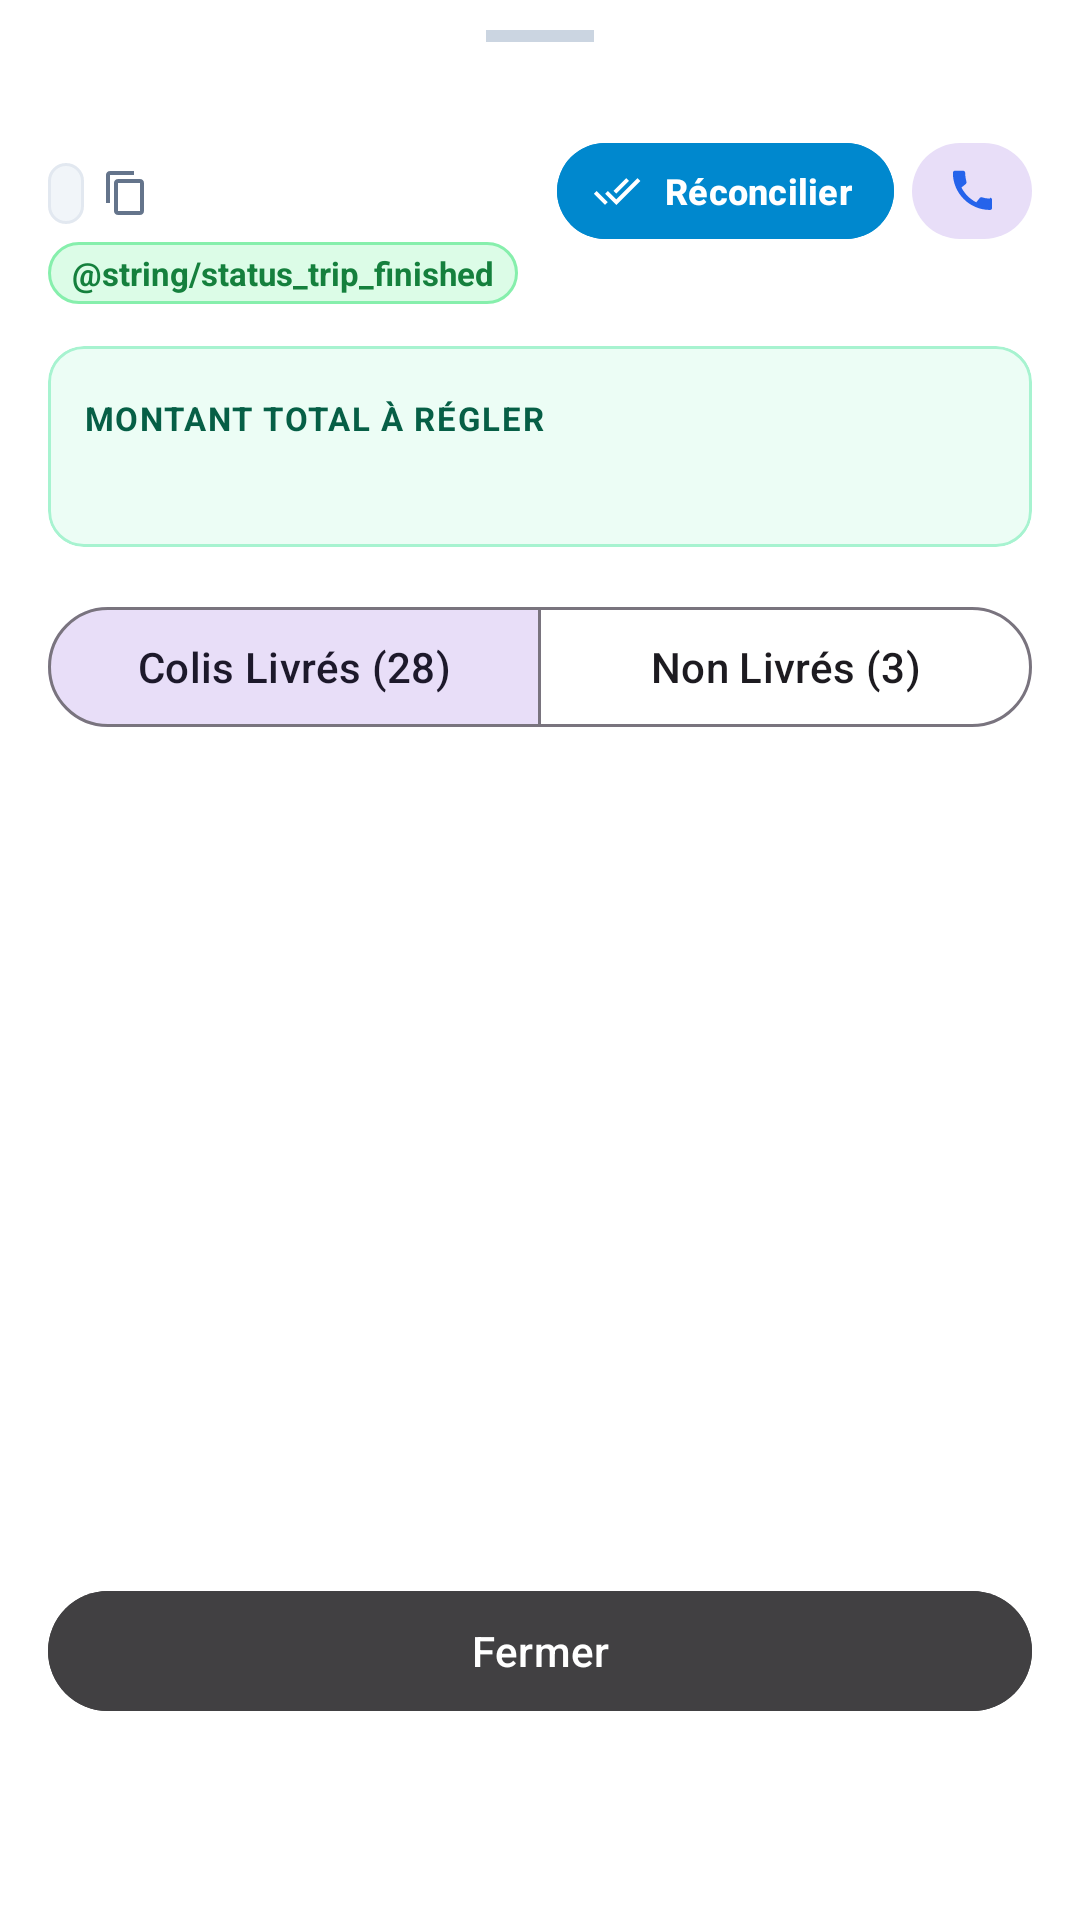

Where to tap for icons on this 1080×1920 app screen, as [x,y]:
Appeler: [972,191]
Copier le n° de trip: [125,193]
